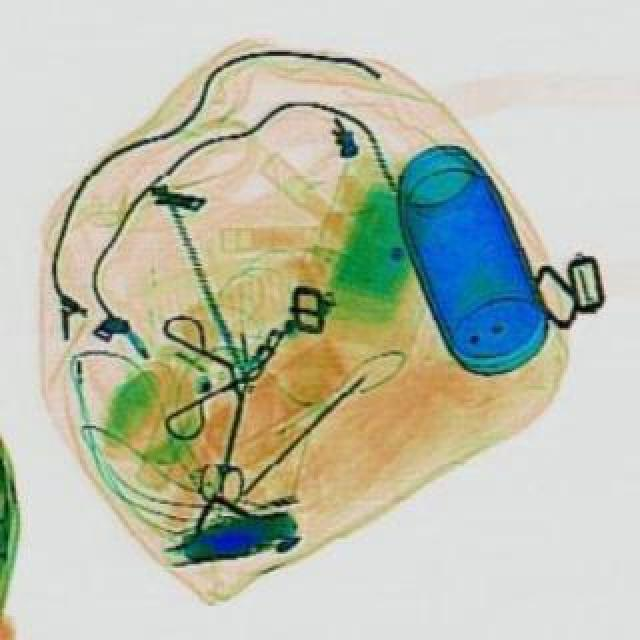pliers: (198, 392, 262, 512)
